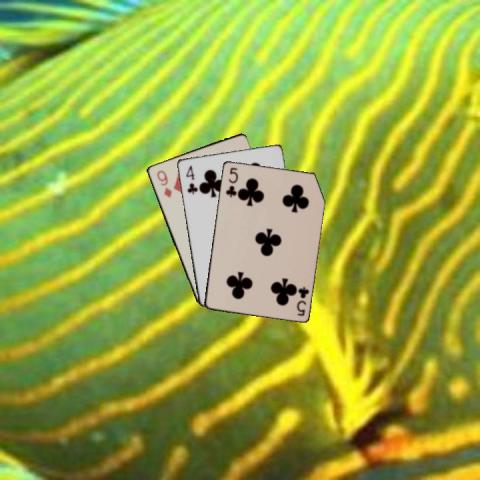4c: (183, 163, 198, 196)
5c: (293, 284, 310, 318), (222, 164, 238, 198)
9d: (153, 167, 173, 199)
